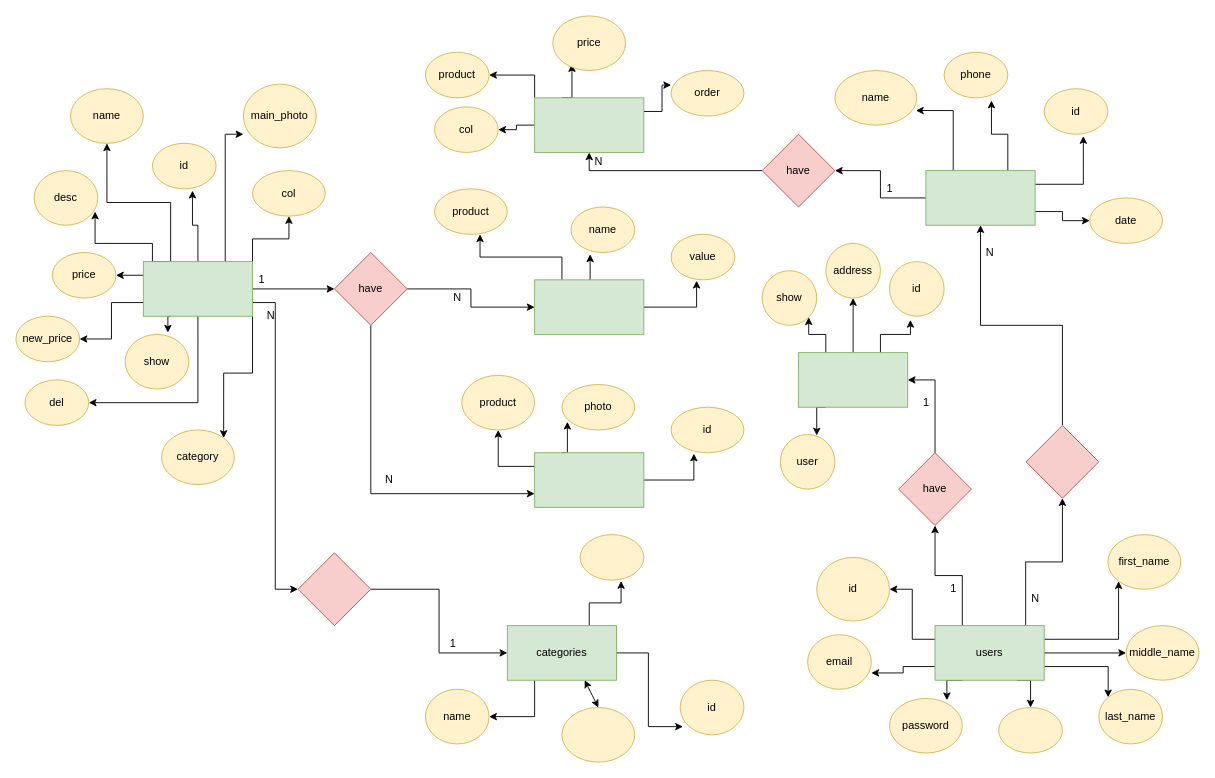
Image size: 1215x778. Some labels were removed from this diagram. The shapes that lost their labels are listed below. From the top down, each one's box as (x1, y1, x2, y2) in pixels, then its label:
(534, 97, 644, 152): order_products
(925, 170, 1035, 225): orders
(142, 261, 253, 316): products
(534, 279, 644, 334): specifications
(798, 352, 908, 407): addresses
(534, 452, 644, 507): photos
(1025, 425, 1099, 498): make
(579, 534, 644, 580): image
(297, 552, 371, 626): belong to
(561, 707, 635, 762): parent
(998, 707, 1062, 753): role
